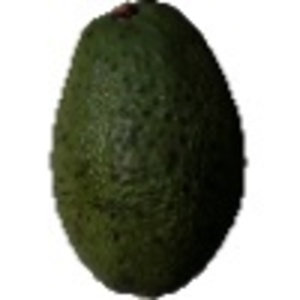abacate: (45, 1, 255, 299)
